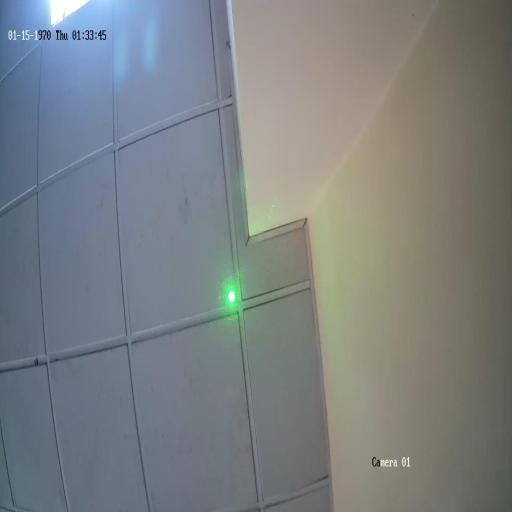laser: (228, 288, 236, 308)
